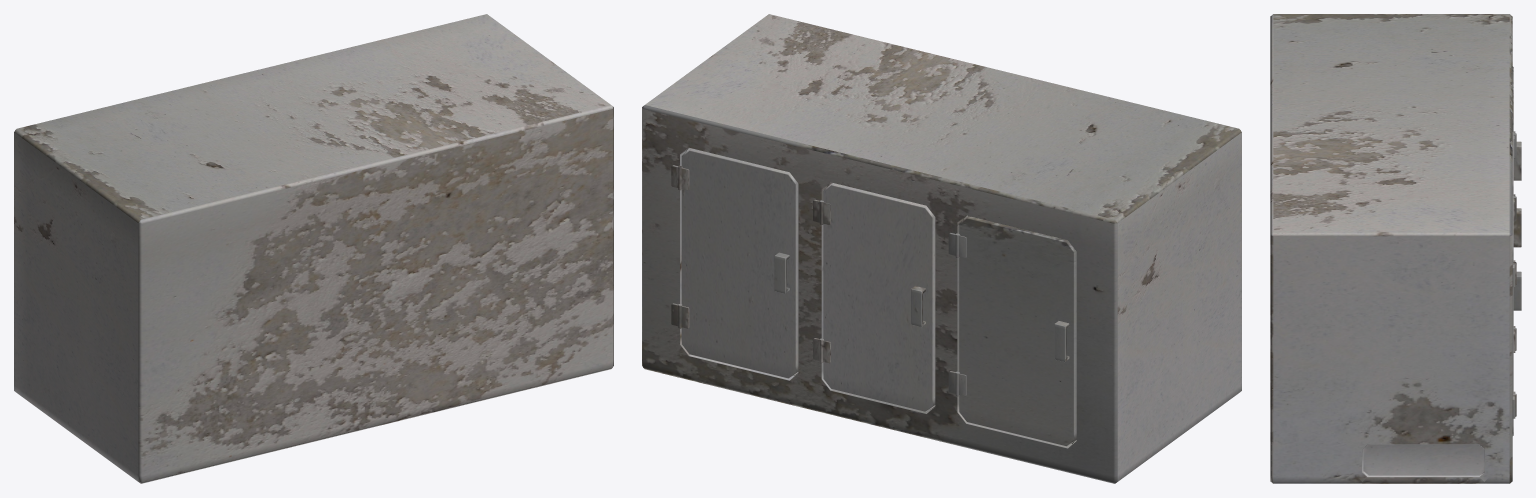
The model's file is generator_l2.fbx.
3 views of the same model, side by side, from view 1: azimuth 30°, elevation 25°; view 2: azimuth 150°, elevation 25°; view 3: azimuth 270°, elevation 25° (orthographic). The views are drawn at different scales.
Visible parts, largest first — view 1: Cube.164; view 2: Cube.164; view 3: Cube.164.
Boxes of the visible parts, x1,y1,x2,y2 form: Cube.164: (14,14,613,483); Cube.164: (642,14,1241,483); Cube.164: (1270,14,1521,483).
Bounding box in the file's own units: 382 × 203 × 184.
